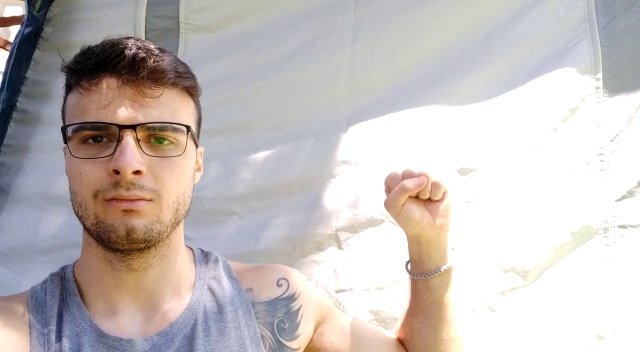Fist: (376, 163, 458, 238)
